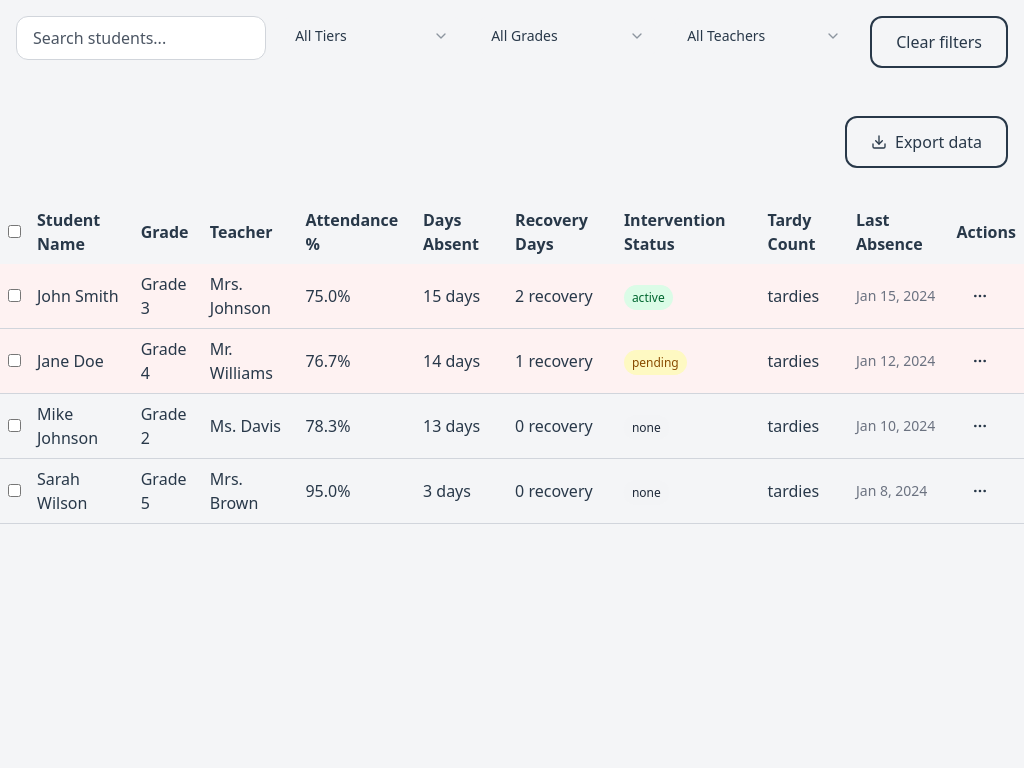
Scenario: StudentList Component › Bulk Selection › should enable bulk action buttons when students selected
Click the checkbox named "select john smith": (14, 296) [8,289,21,302]
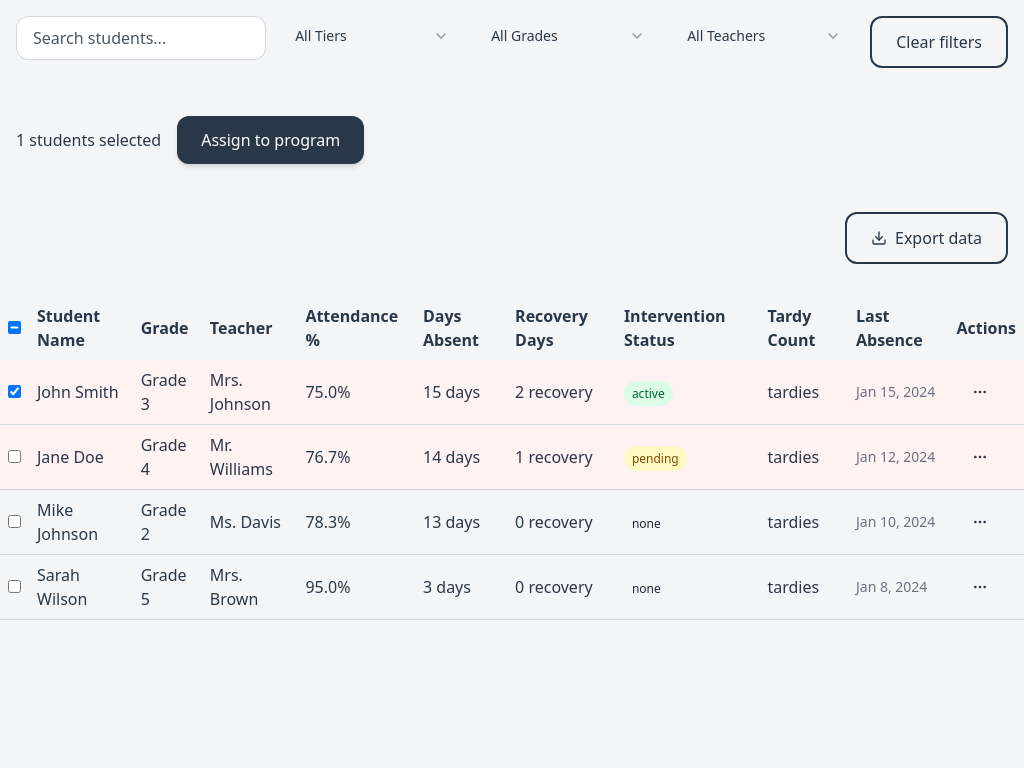
Expected: the button "Assign to program" is enabled, [177,116,364,164]
